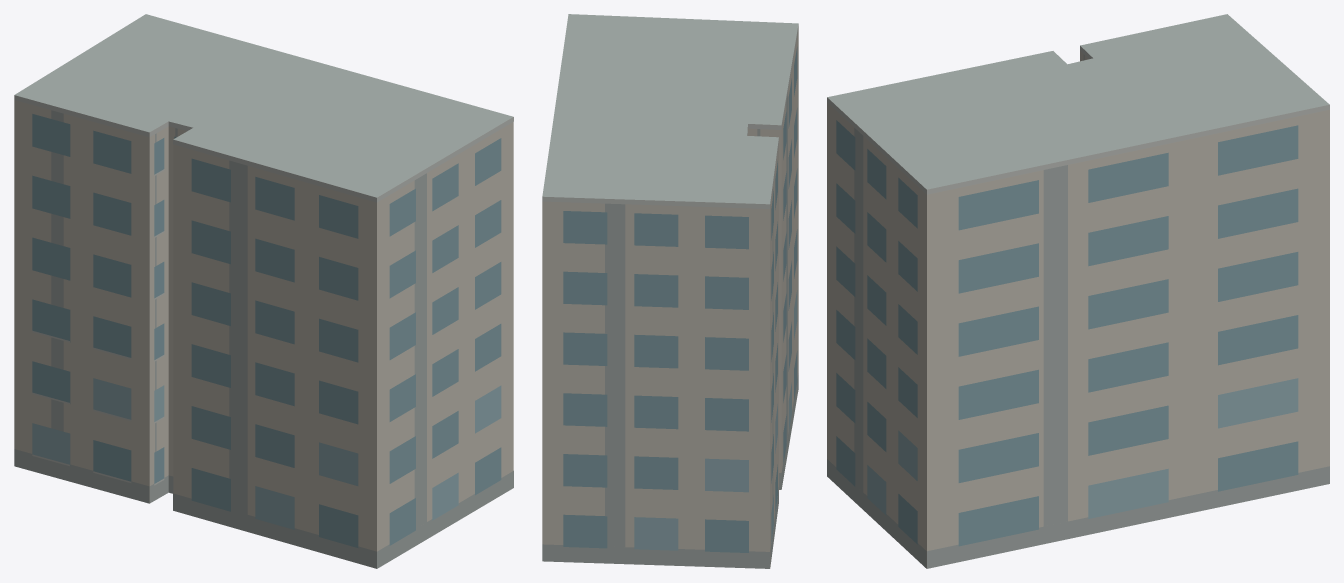
The model's file is survey-upis-32873267.glb.
3 renders of one model, left to right at view 1: azimuth 30°, elevation 25°; view 2: azimuth 150°, elevation 25°; view 3: azimuth 270°, elevation 25°, orthographic. The views are drawn at different scales.
Visible parts, largest first — view 1: survey-upis-32873267.tmp; view 2: survey-upis-32873267.tmp; view 3: survey-upis-32873267.tmp.
Part boxes in pixels (x1,y1,x2,y2): survey-upis-32873267.tmp: (14, 14, 513, 568); survey-upis-32873267.tmp: (542, 14, 798, 568); survey-upis-32873267.tmp: (827, 14, 1329, 568).
Size of the model in its own units: 18.39 by 18.5 by 22.24.
